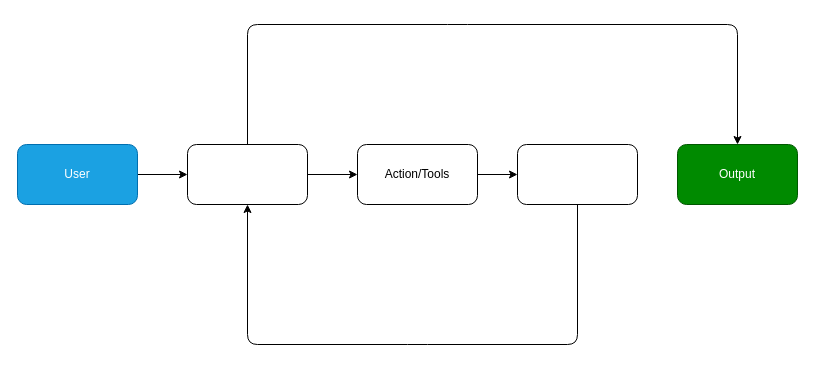
This 815x370 diagram has some shape labels left out. Each missing label, with the box of its shape:
LLM: (186, 144, 308, 204)
Observation: (516, 144, 638, 204)
